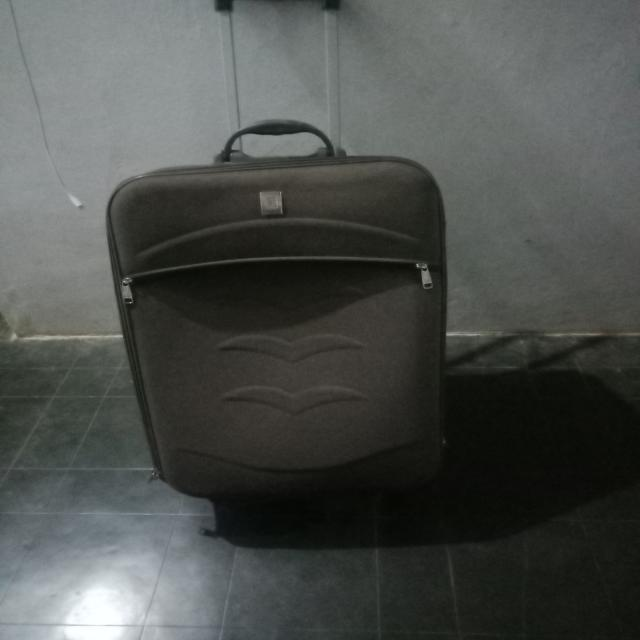suitcaserotation: (99, 0, 452, 504)
